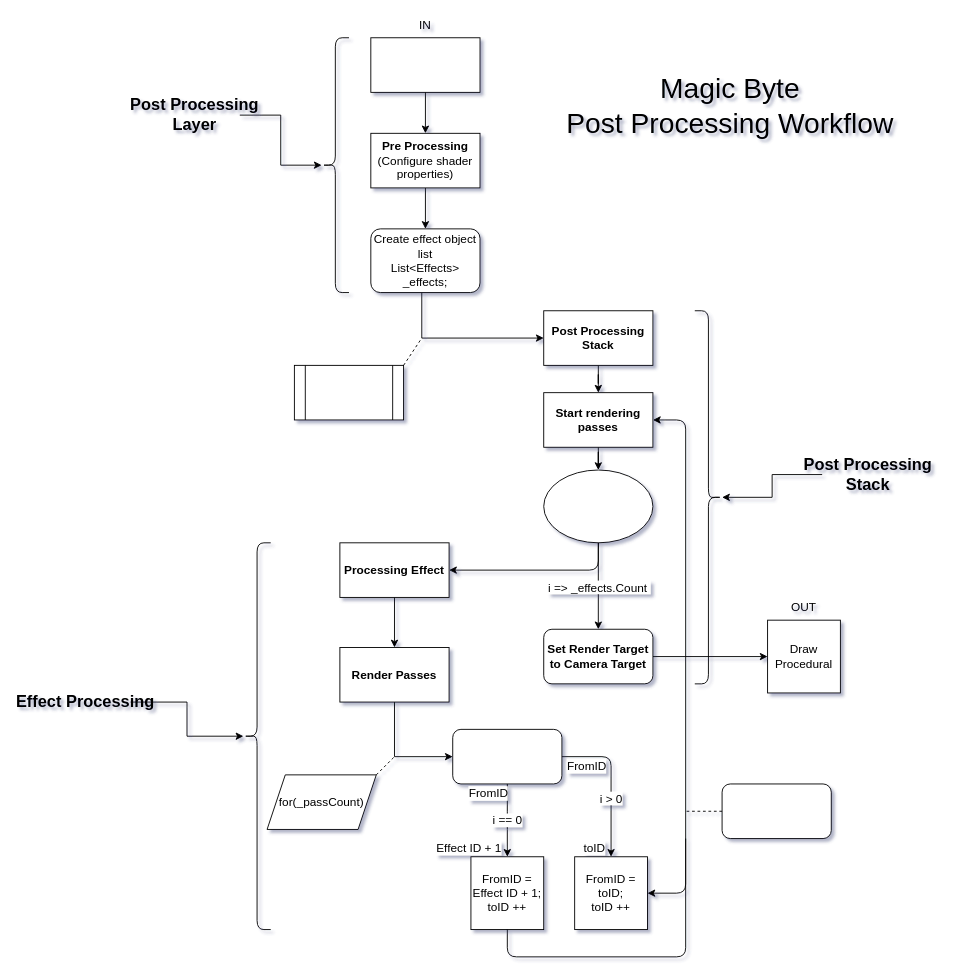
Some shapes in this 953 by 979 pixel diagram are drawn without their labels. Each missing label, with the centre of its shape:
"Camera Render" belongs at (x=348, y=392).
"for(_effects.Count)" belongs at (x=598, y=506).
"Post Processing Effect" belongs at (x=425, y=64).
"Set Render Target to:" belongs at (x=507, y=756).
"ToID FromID (Shader.PropertyToID)" belongs at (x=776, y=811).
